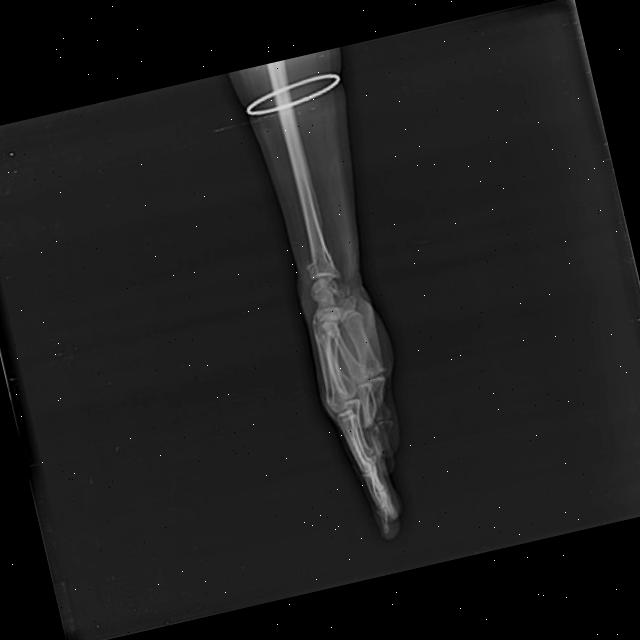Fracture: (305, 252, 343, 278)
